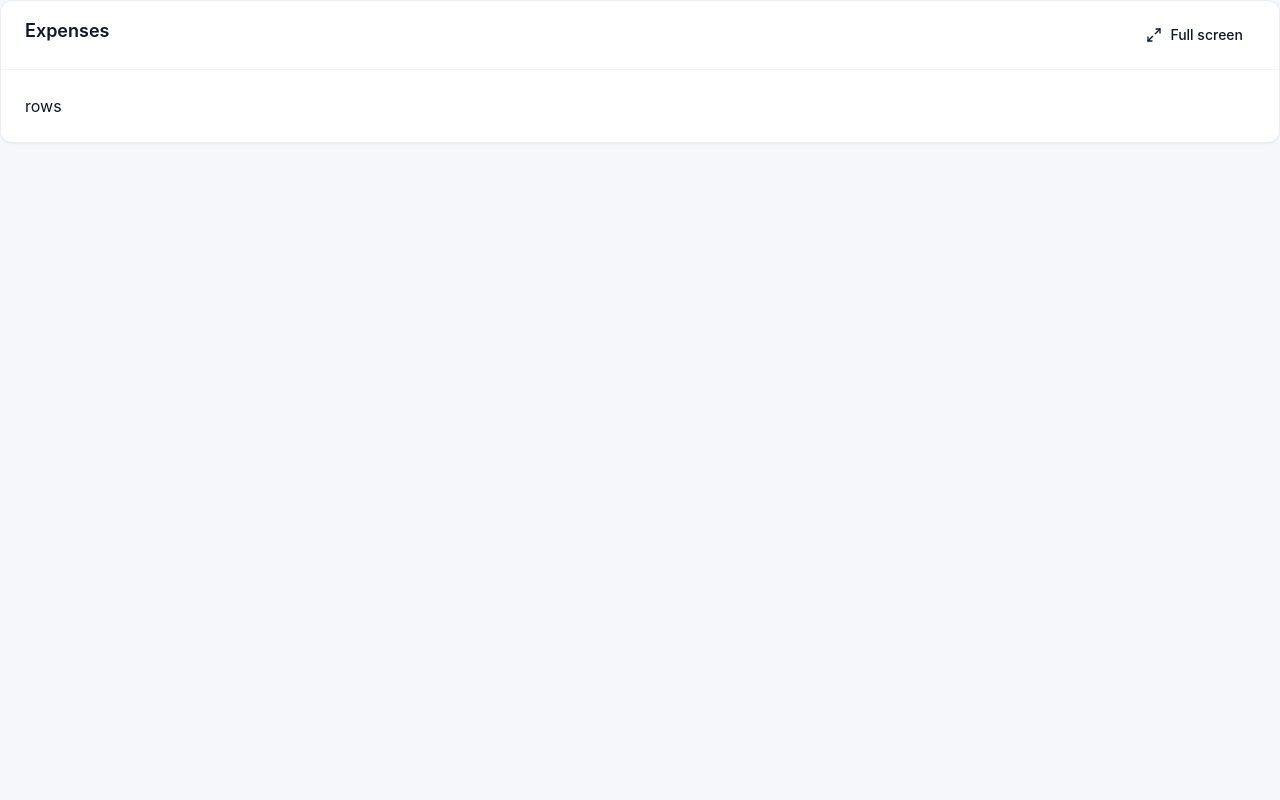
Test: WorkspaceShell › enters full screen, locks body scroll and exits with Escape
This screenshot has width=1280, height=800.
Step 1. Click the button with aria-label "Open full screen workspace" → (1195, 35), box [1134,17,1255,53]
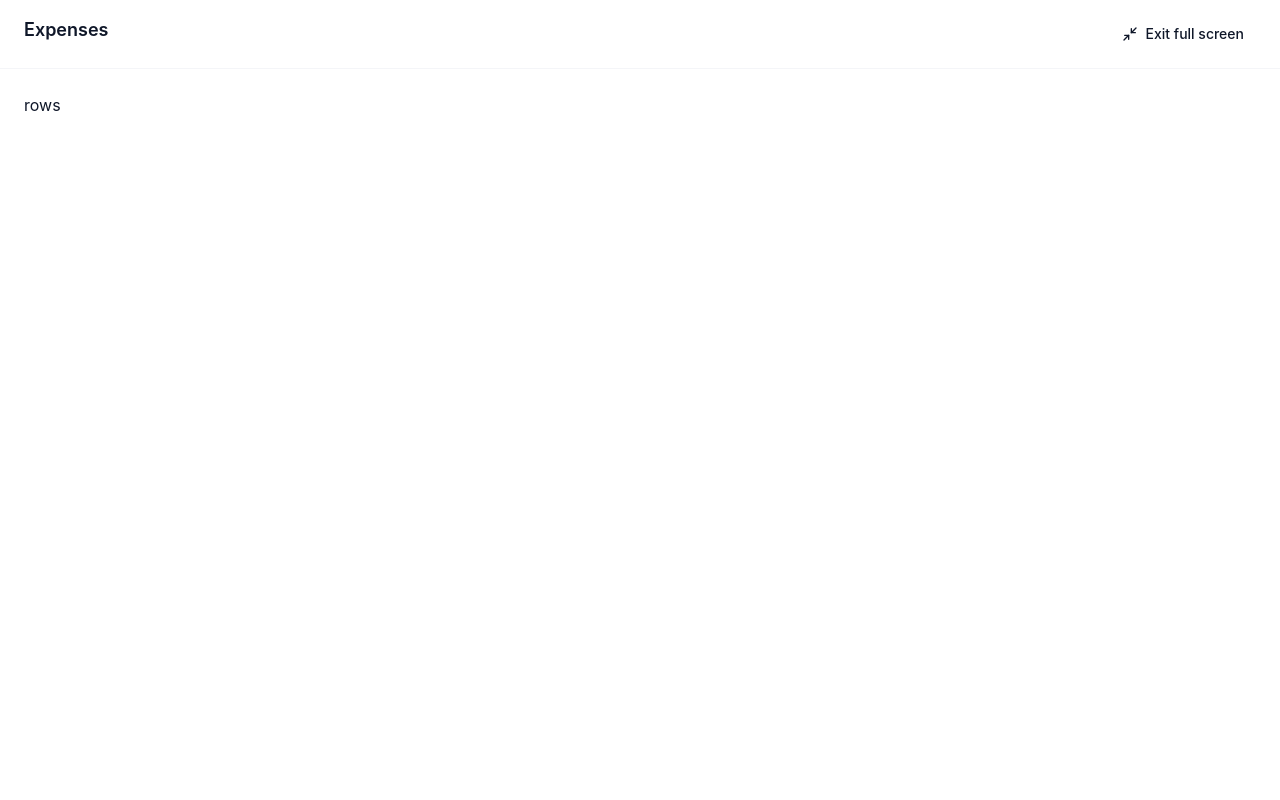
Result: the button labelled "Exit full screen" is shown at [1110,16,1256,52]
Step 2. Press Escape
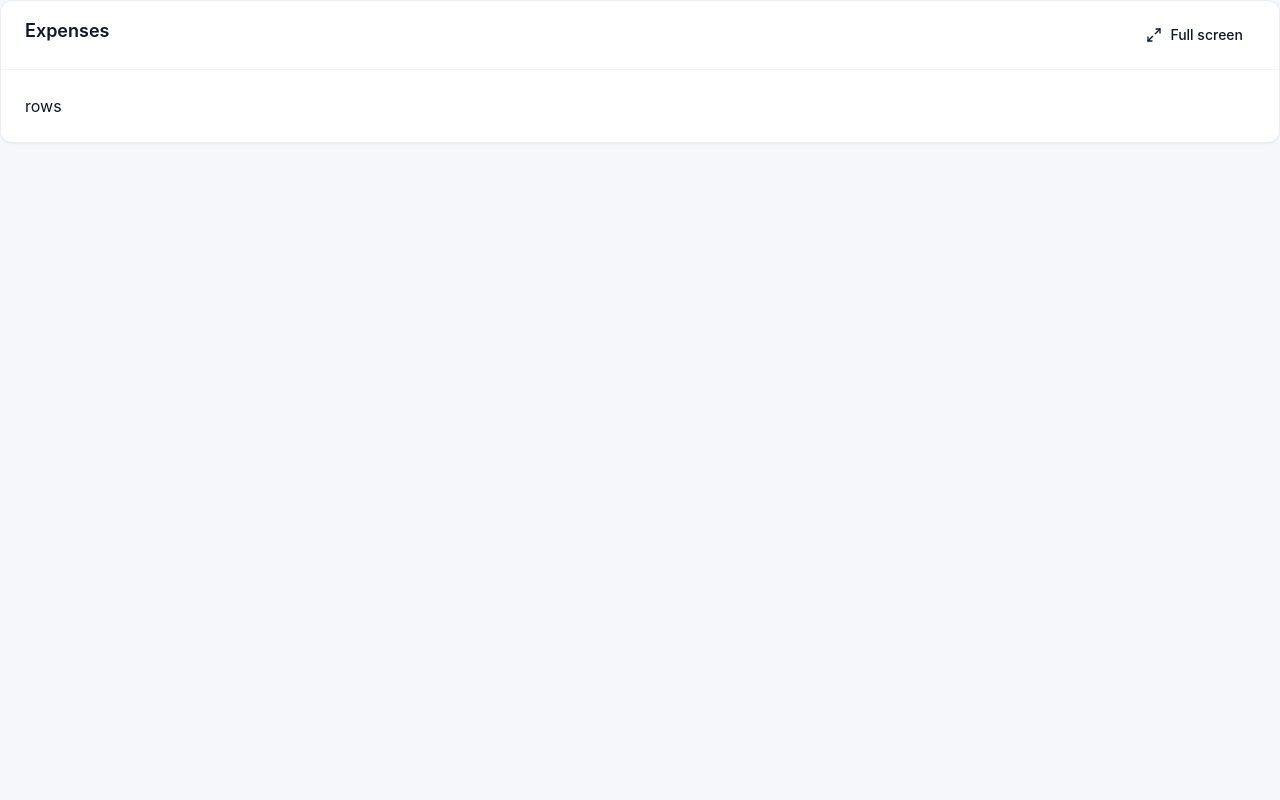
Result: the button with aria-label "Open full screen workspace" is shown at [1134,17,1255,53]
